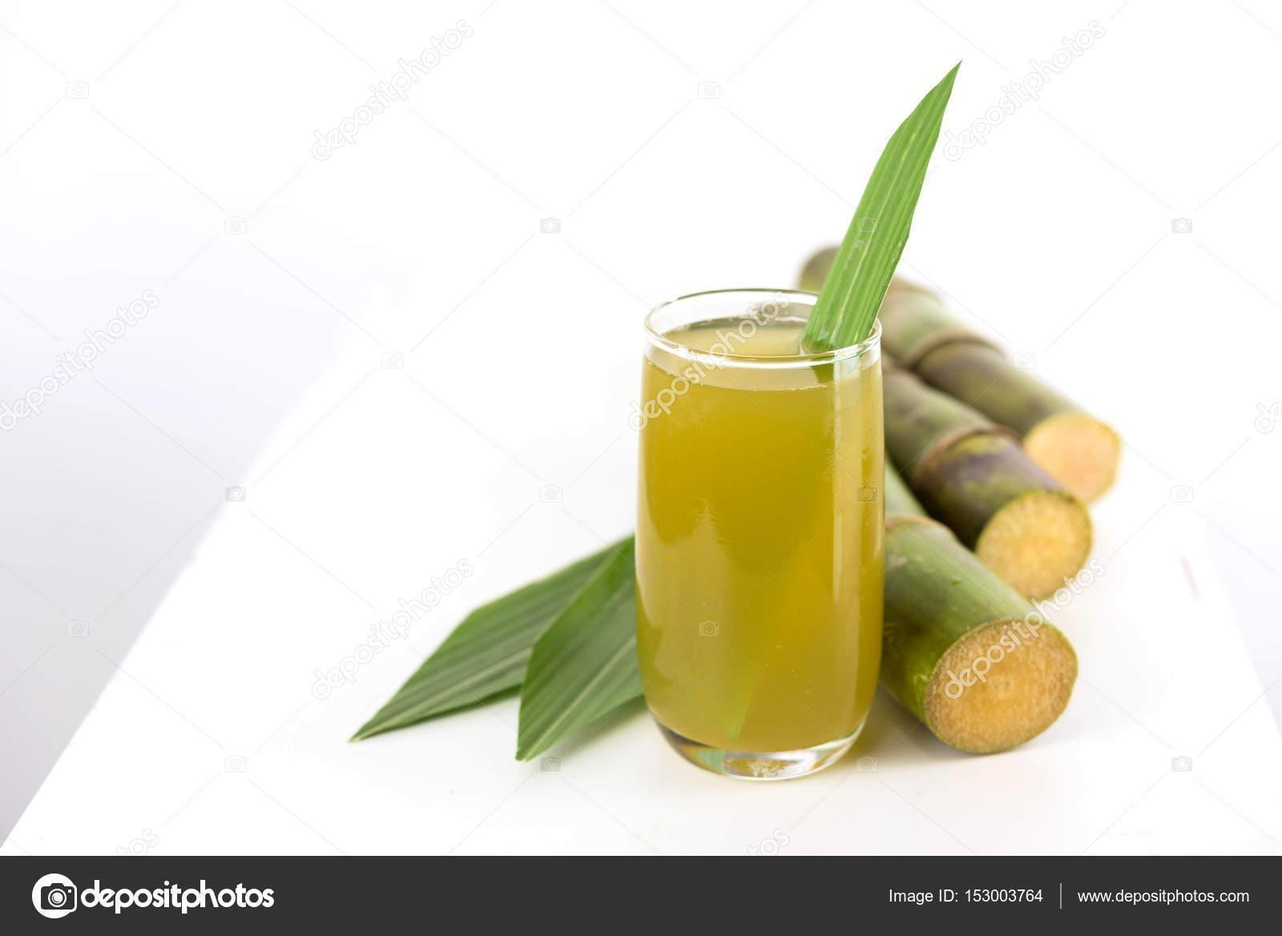glass-normal: (630, 283, 889, 784)
